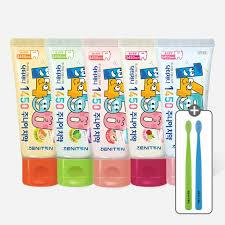toothpaste: (153, 35, 214, 187), (43, 34, 94, 189), (7, 34, 59, 186), (84, 34, 132, 189), (118, 36, 167, 187)
